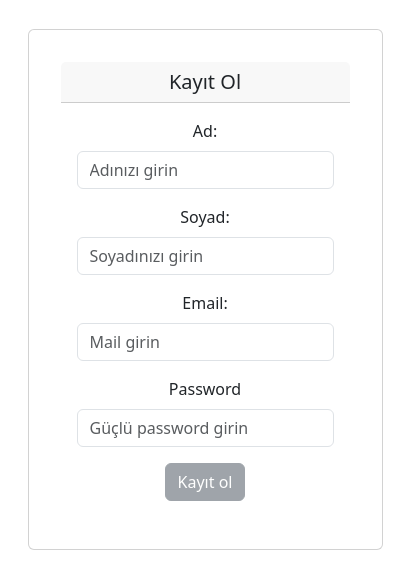
Test: Hata mesajları doğru görünüyor mu › Soyad için 3 karakterden az olduğunda hata mesajı çıkıyor mu
Type "ca" into the field with test id "input-soyad". click: {"x": 206, "y": 256}
box: 77,237 -> 334,275
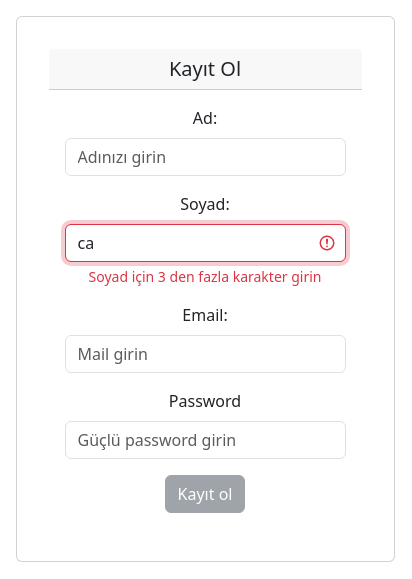
Expected: the text "Soyad için 3 den fazla karakter girin" is shown, 88,267 -> 322,286
